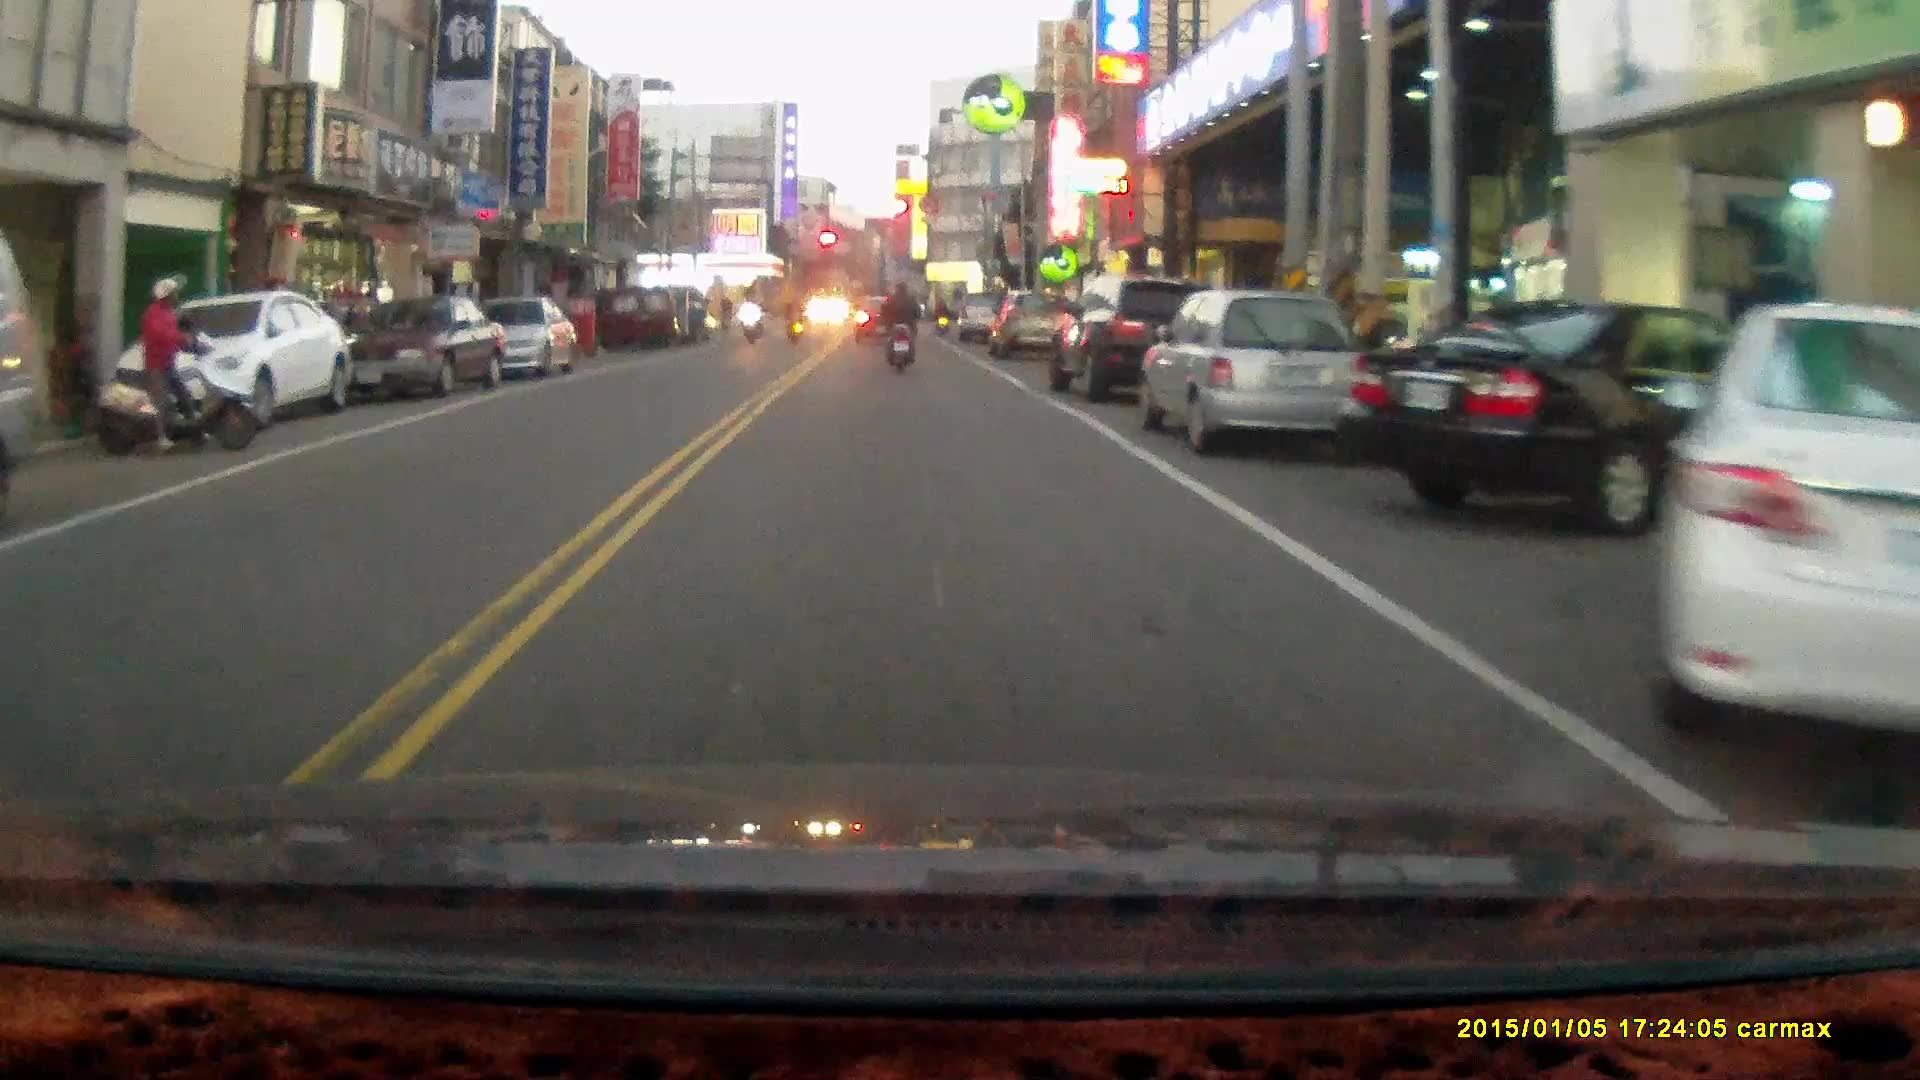rider: (87, 269, 270, 456), (882, 277, 923, 370), (736, 292, 764, 343), (785, 291, 807, 345), (714, 286, 734, 339), (933, 296, 953, 337)
vehicle: (1655, 300, 1920, 770), (1350, 297, 1799, 535), (1142, 286, 1363, 447), (103, 293, 357, 429), (1052, 274, 1231, 406), (333, 297, 500, 404), (464, 296, 579, 382), (593, 284, 675, 347), (996, 288, 1066, 361)
